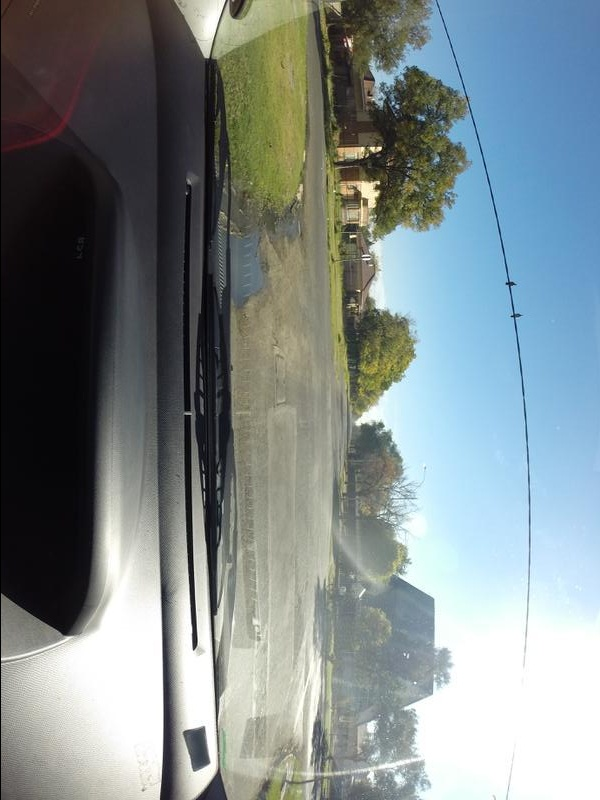pothole: (221, 228, 273, 307)
